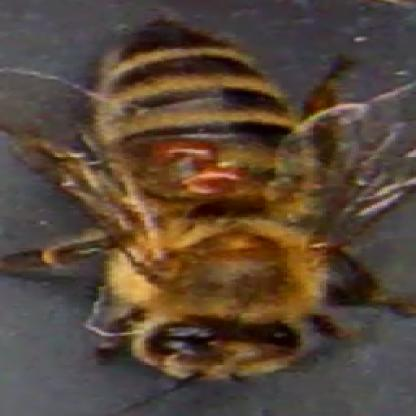bee: (78, 16, 324, 384)
vaoora: (146, 135, 221, 163), (190, 162, 247, 196)
